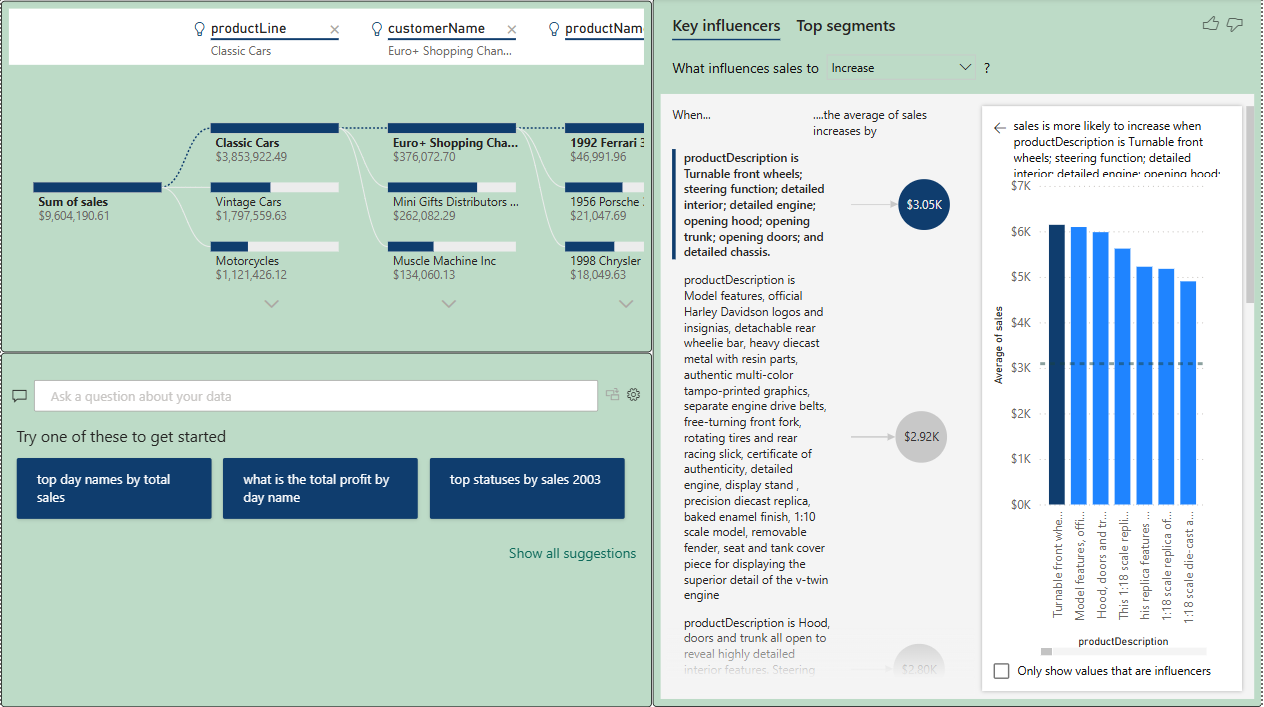

This screenshot's page, from the dashboard's own definition file:
{"tool":"powerbi","page":{"name":"Page 3","canvas":[1280,720],"ordinal":3},"visuals":[{"type":"decompositionTreeVisual","fields":{"ExplainBy":["products.productLine","customers.customerName","products.productName"],"Analyze":["order details.sales"]},"box":[0,2.9,661.4,357.1],"z":0},{"type":"keyDriversVisual","fields":{"Target":["order details.sales"],"ExplainBy":["products.productDescription"]},"box":[661.4,0,618.6,720],"z":1000},{"type":"qnaVisual","box":[0,360,661.4,360],"z":2000}]}

Visuals, with their boxes on the page's 1280x720 design canvas (x1, y1, x2, y2). These are canvas units, not pixel positions in the 1264x707 screenshot, which may show the page scaled, cropped or inside an application window:
decompositionTreeVisual - products.productLine x customers.customerName: [0,3,661,360]
keyDriversVisual - order details.sales x products.productDescription: [661,0,1280,720]
qnaVisual: [0,360,661,720]
